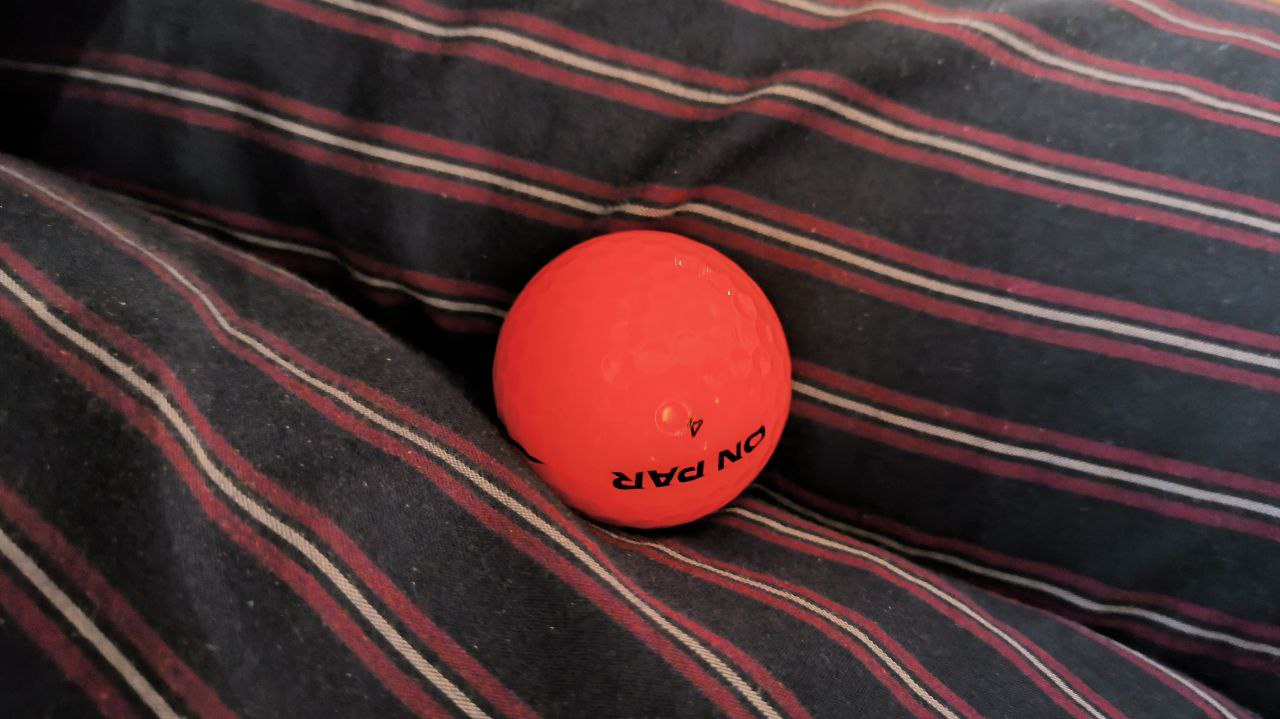orange_ball: (493, 228, 792, 529)
